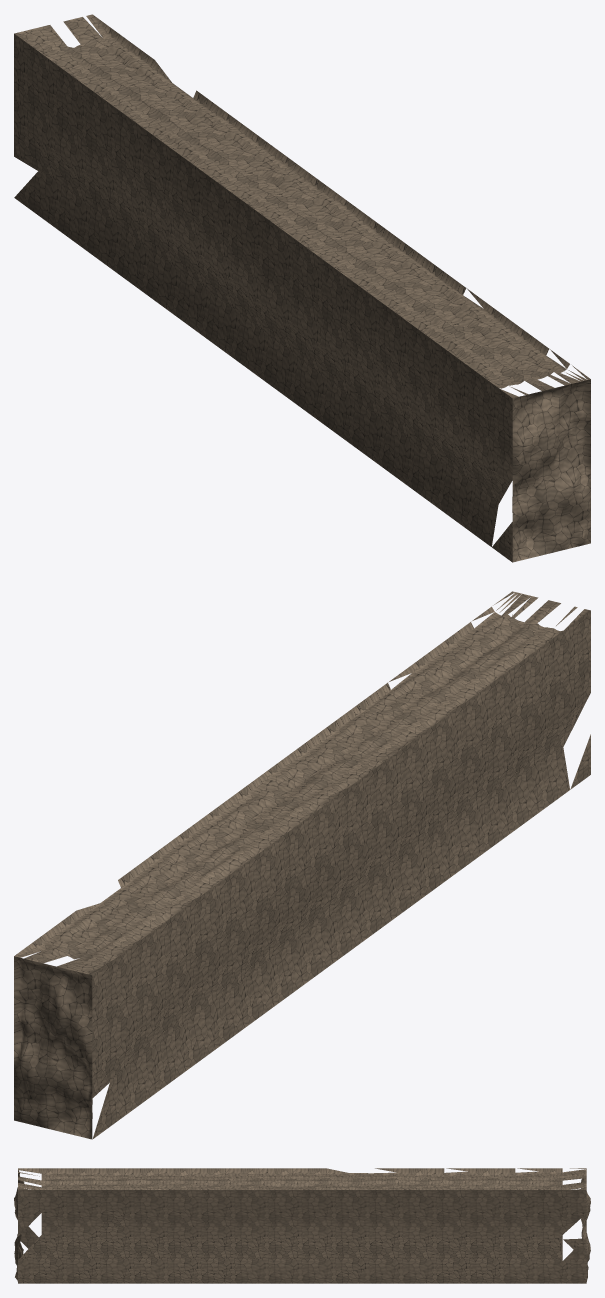
Rendered from cliff_ew.glb.
The picture shows the model from 3 angles, top to bottom: view 1: azimuth 30°, elevation 25°; view 2: azimuth 150°, elevation 25°; view 3: azimuth 270°, elevation 25°; orthographic projection. The views are drawn at different scales.
Parts seen in each view (by area): view 1: cliff_ew; view 2: cliff_ew; view 3: cliff_ew.
Part boxes in pixels (box(x1,y1,x2,y2)): cliff_ew: box(14, 14, 590, 562); cliff_ew: box(14, 591, 590, 1139); cliff_ew: box(14, 1168, 590, 1283).
Size of the model in its own units: 4.32 by 8 by 44.65.
1 material, 1 textured.
